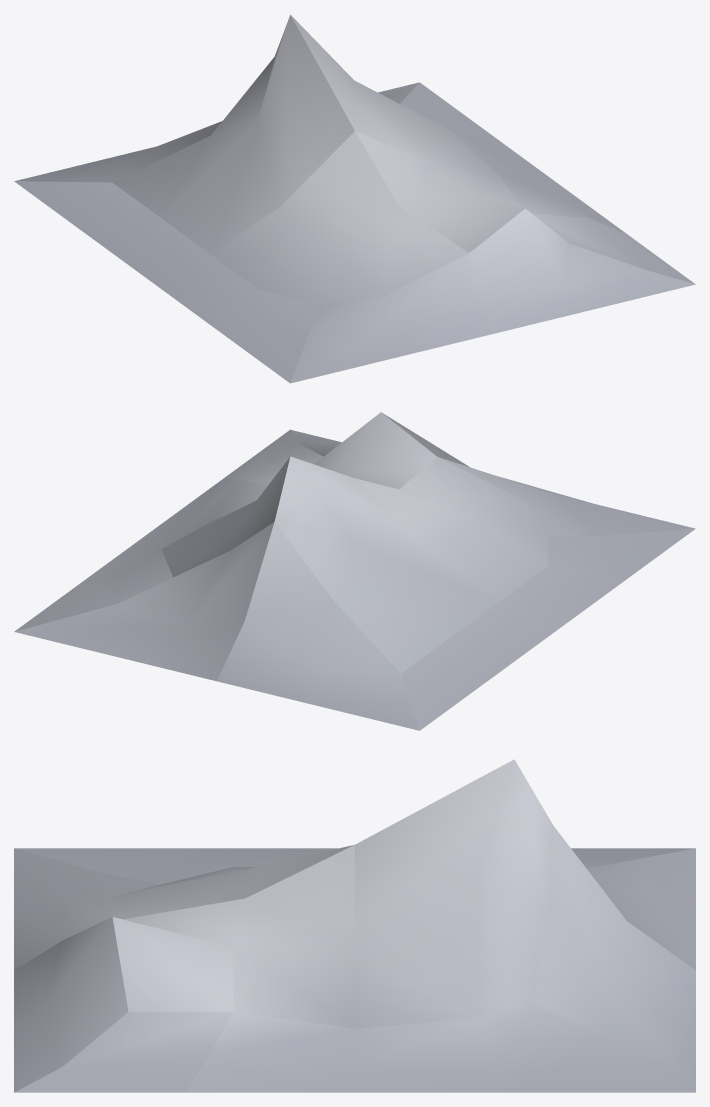
The model's file is Hill_2.fbx.
3 views of the same model, one above another, from view 1: azimuth 30°, elevation 25°; view 2: azimuth 150°, elevation 25°; view 3: azimuth 270°, elevation 25° (orthographic). The views are drawn at different scales.
Visible parts, largest first — view 1: Hill_2; view 2: Hill_2; view 3: Hill_2.
Boxes of the visible parts, left/top/right/bottom form: Hill_2: left=14, top=15, right=695, bottom=383; Hill_2: left=14, top=412, right=695, bottom=730; Hill_2: left=14, top=759, right=695, bottom=1092.
Size of the model in its own units: 15.22 by 6.13 by 17.95.
Materials: 1 (1 with a texture image).
